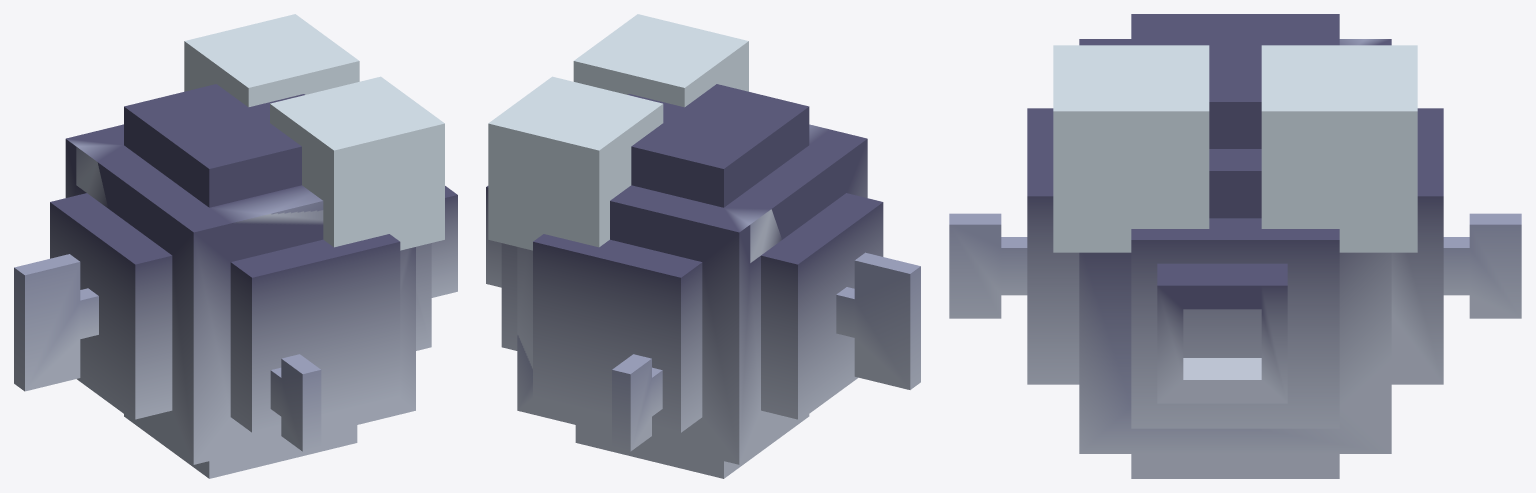
Rendered from pufferfish-textured.glb.
The picture shows the model from 3 angles, left to right: view 1: azimuth 30°, elevation 25°; view 2: azimuth 150°, elevation 25°; view 3: azimuth 270°, elevation 25°; orthographic projection. The views are drawn at different scales.
Parts seen in each view (by area): view 1: pufferfish; view 2: pufferfish; view 3: pufferfish.
Boxes of the visible parts, x1,y1,x2,y2 form: pufferfish: (14, 14, 457, 478); pufferfish: (486, 14, 920, 478); pufferfish: (949, 14, 1521, 478).
Size of the model in its own units: 2 by 1.55 by 2.
1 material, 1 textured.
